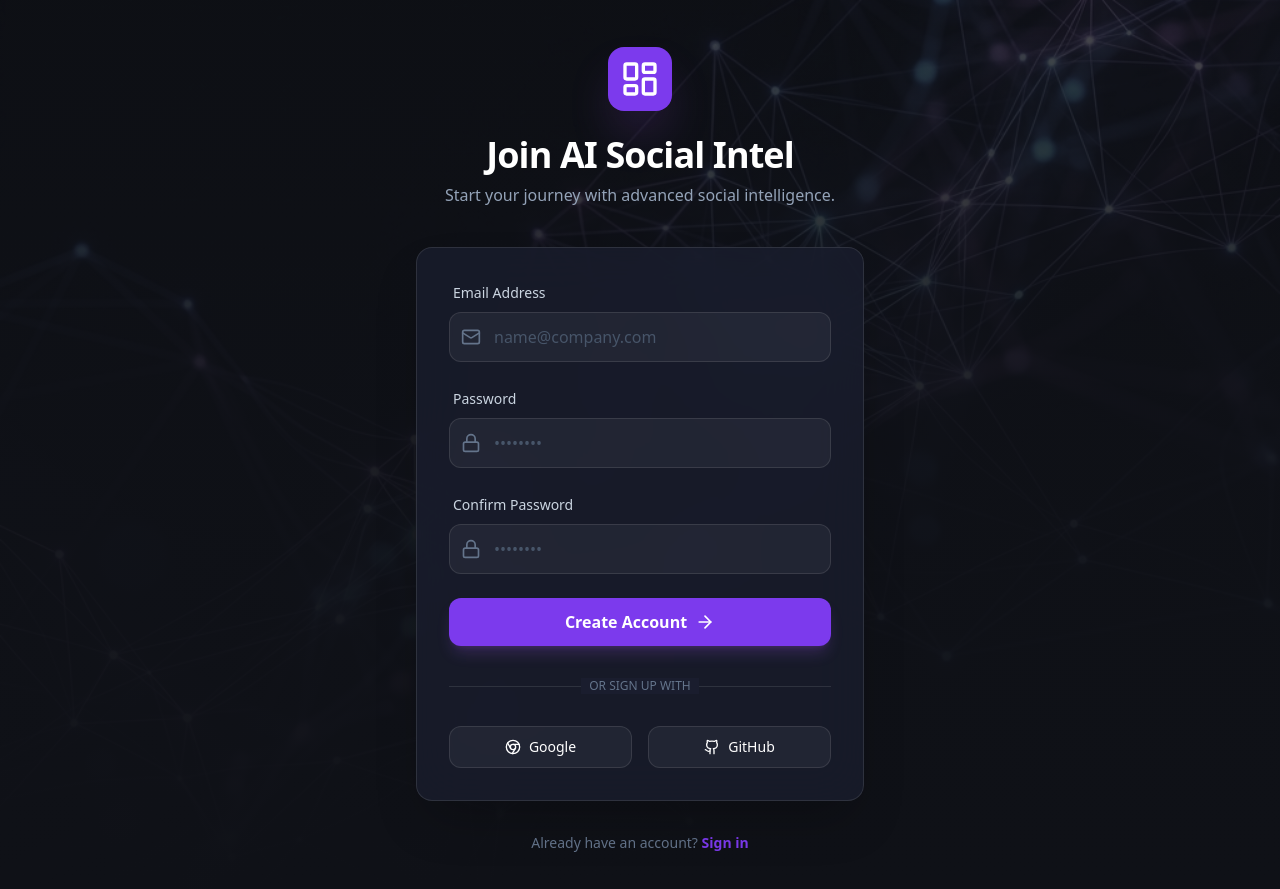
Test case: RegisterPage › shows error if passwords do not match
Type "test@example.com" into the field with placeholder "name@company.com" at (640, 337), box [449,312,831,362]
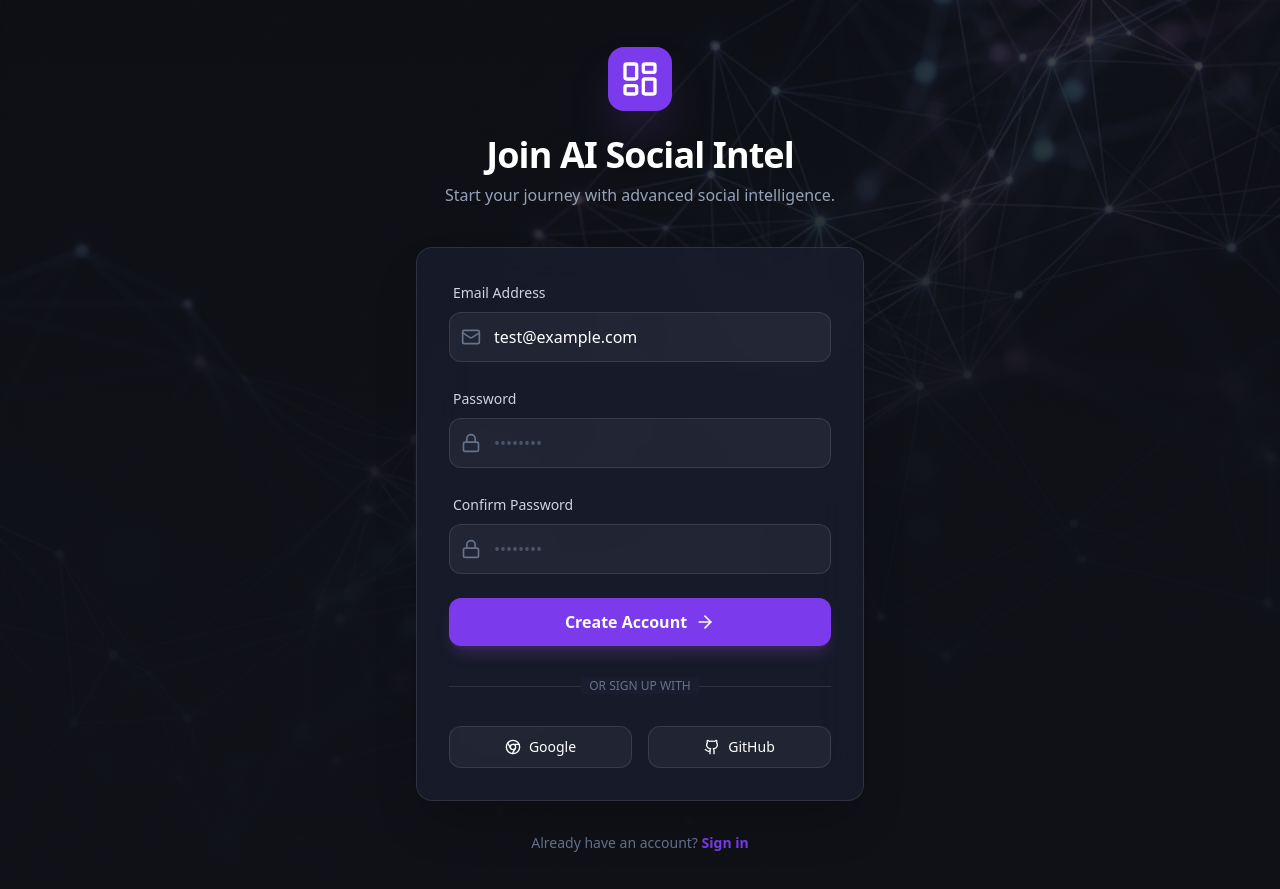
Type "pass1" into the 1st password field with placeholder "••••••••" at (640, 443), box [449,418,831,468]
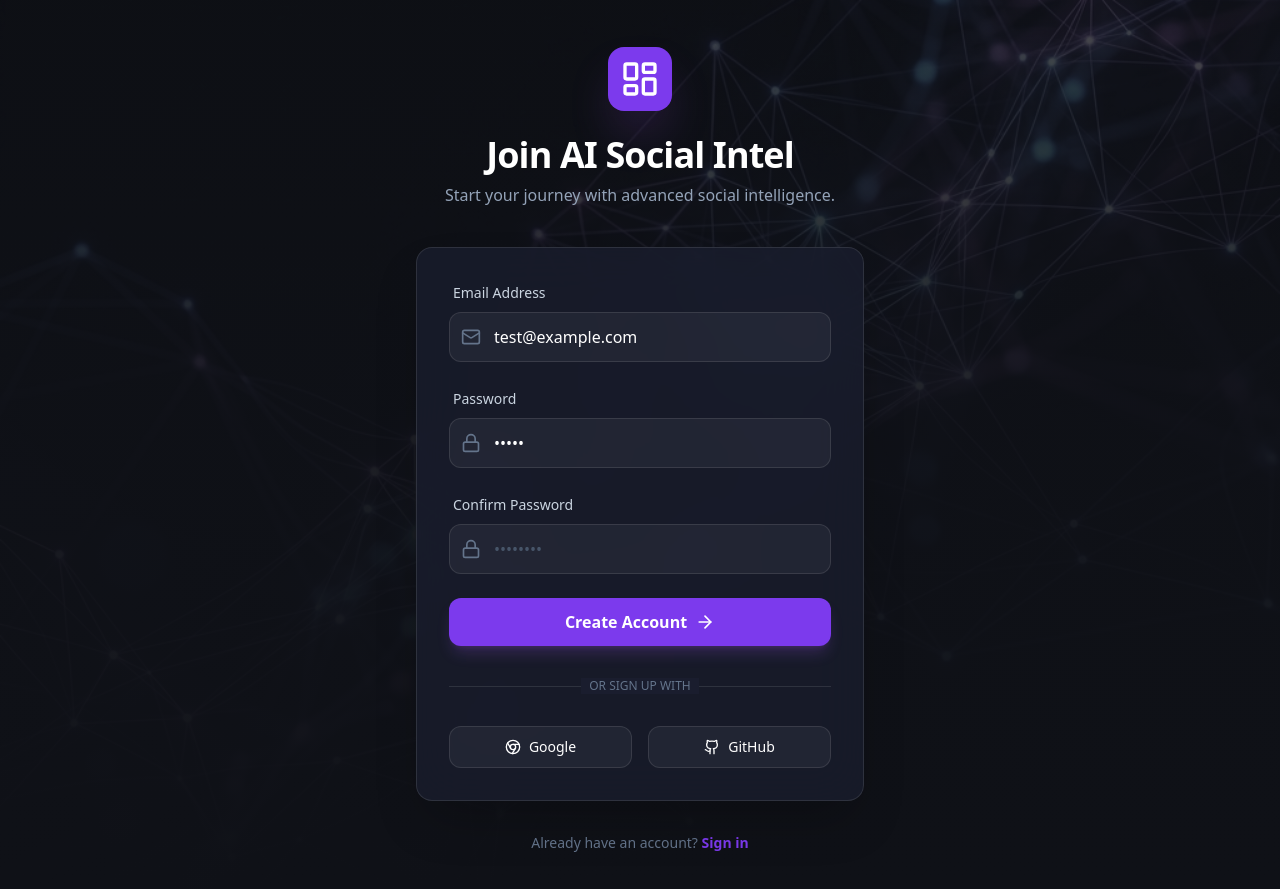
Type "pass2" into the password field with placeholder "••••••••" at (640, 549), box [449,524,831,574]
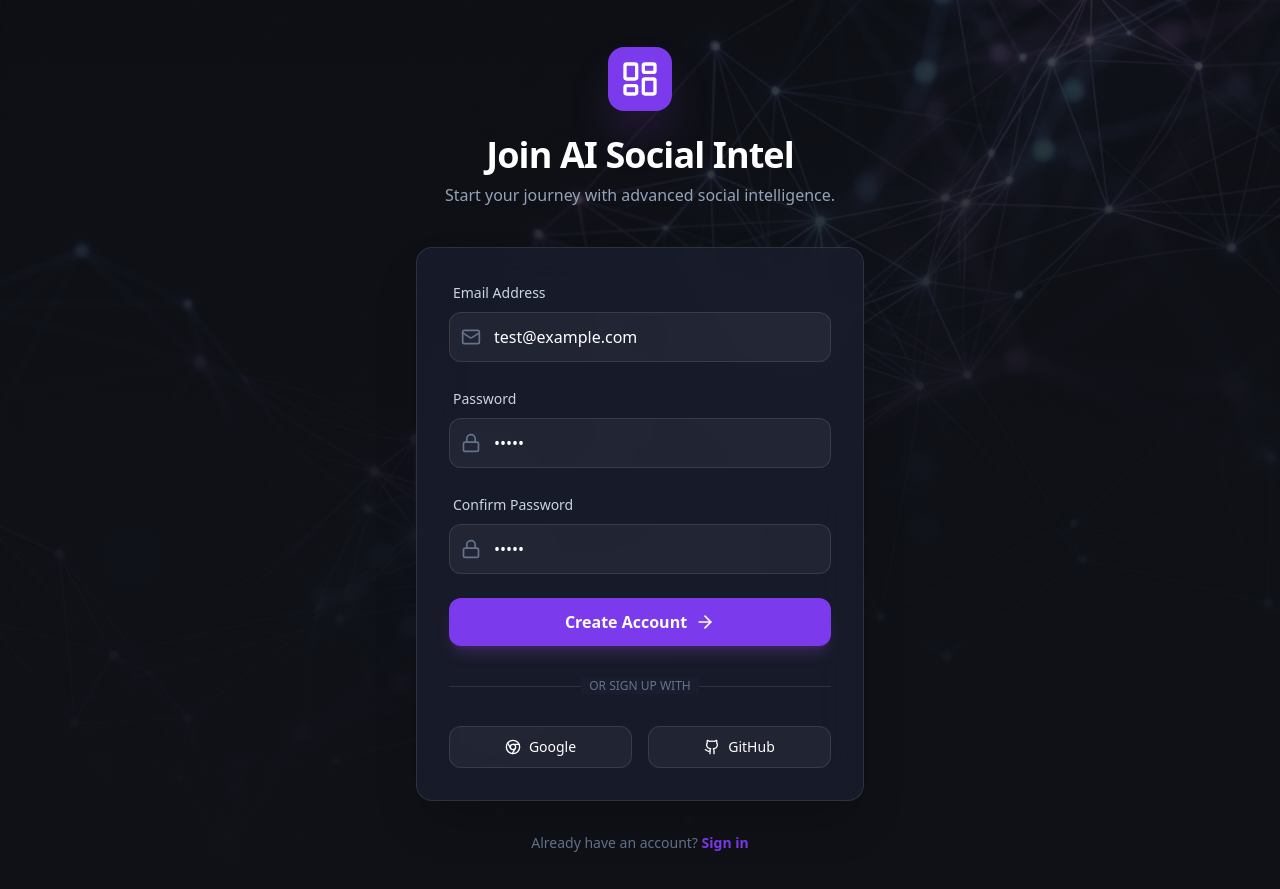
Click the button "Create Account" at (640, 622), box [449,598,831,646]
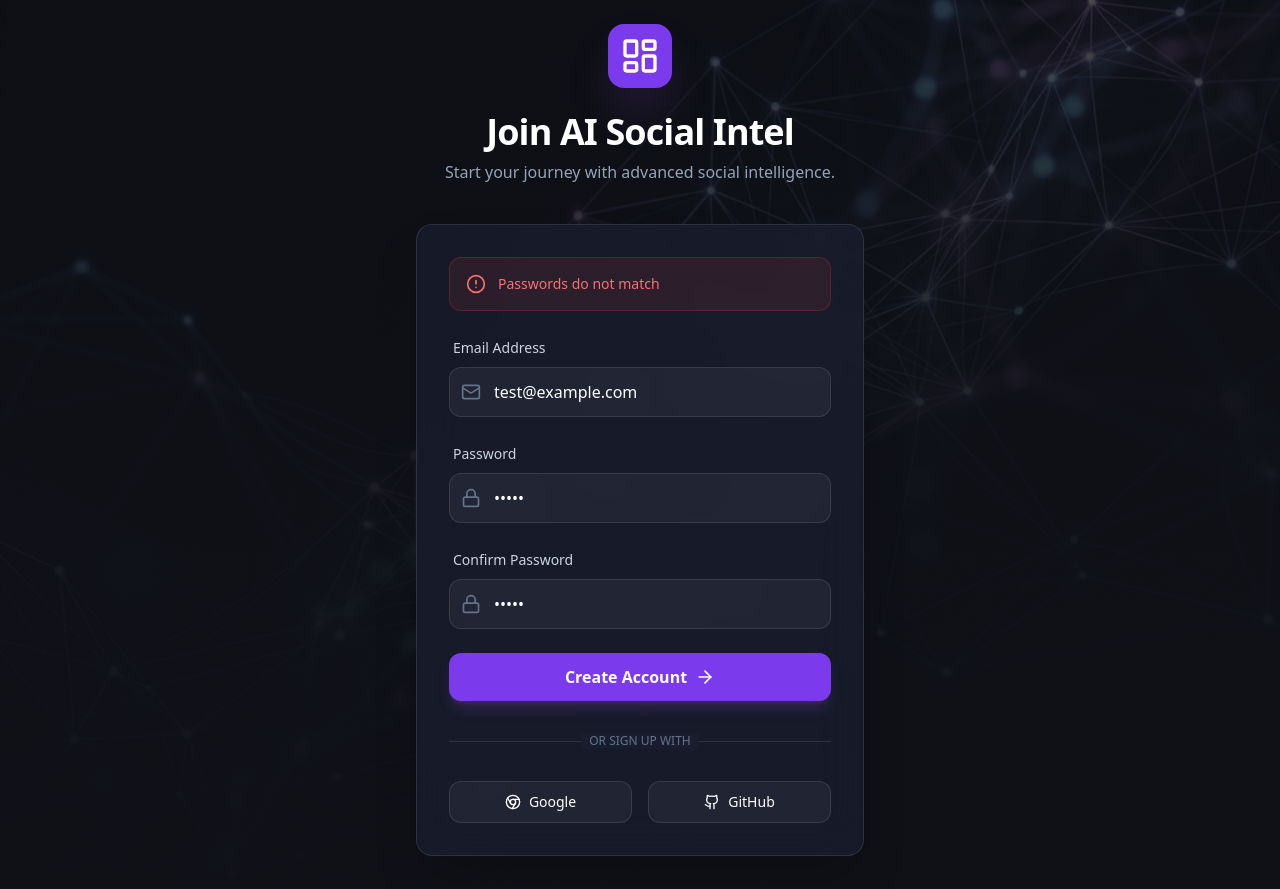
Result: the text "Passwords do not match" is shown at [498,274,660,294]
